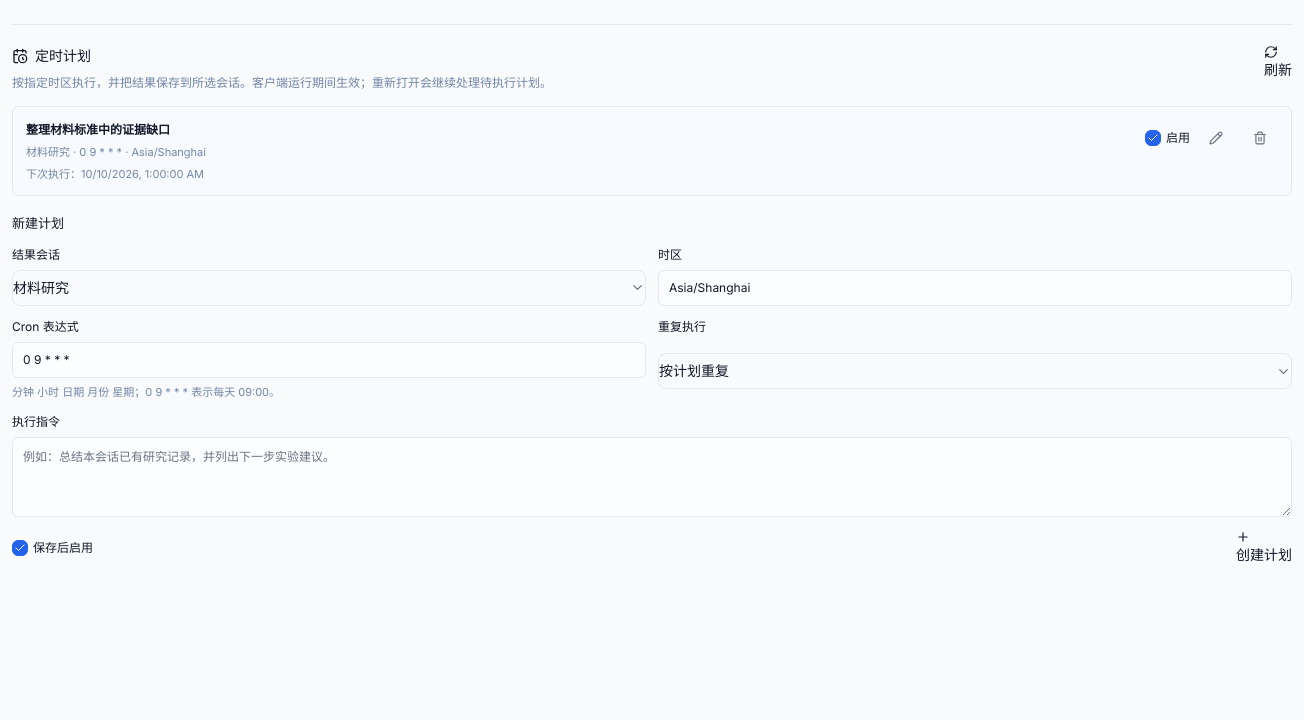
Test: AgentSchedulesPanel › deletes the visible expert schedule and leaves other experts' schedules intact
Expected: the dropdown named "结果会话" is enabled, x1=12 y1=270 x2=646 y2=306
Click the button named "删除计划": (1260, 138) x1=1242 y1=120 x2=1278 y2=156
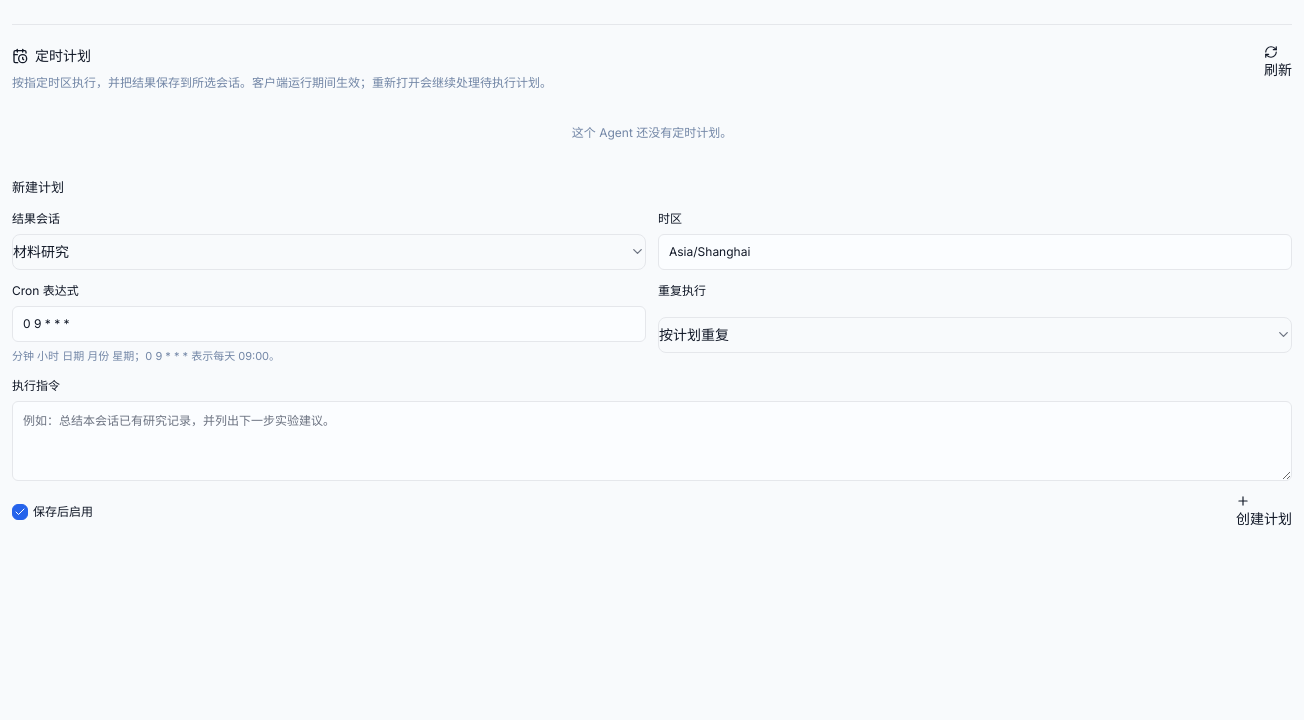
Expected: the text "这个 Agent 还没有定时计划。" is shown, x1=572 y1=125 x2=732 y2=140
